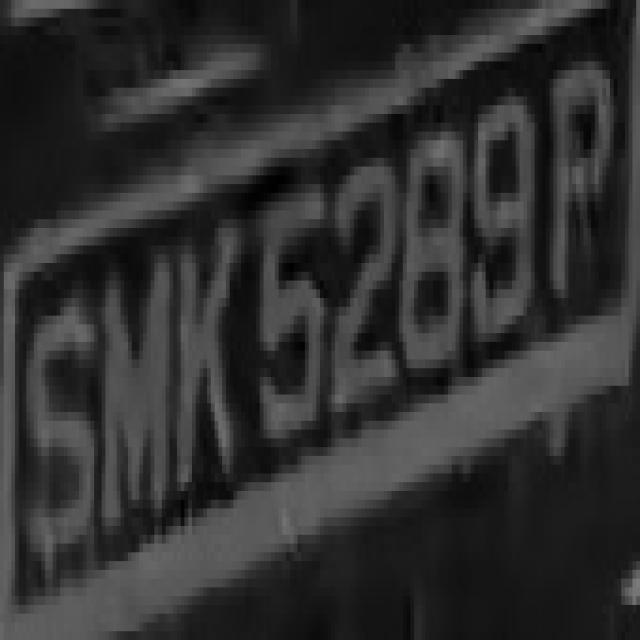2: (320, 140, 407, 430)
5: (248, 149, 328, 465)
8: (380, 122, 467, 386)
9: (455, 61, 531, 377)
K: (158, 175, 245, 526)
M: (102, 228, 170, 552)
P: (538, 35, 614, 333)
S: (11, 236, 102, 578)
